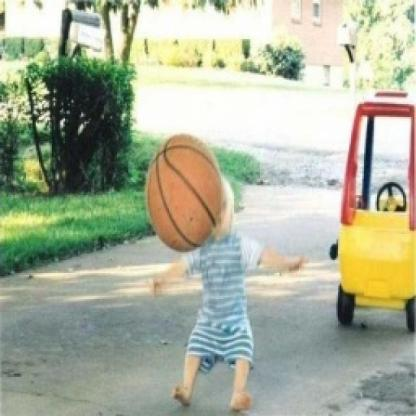basketball: (142, 128, 228, 256)
